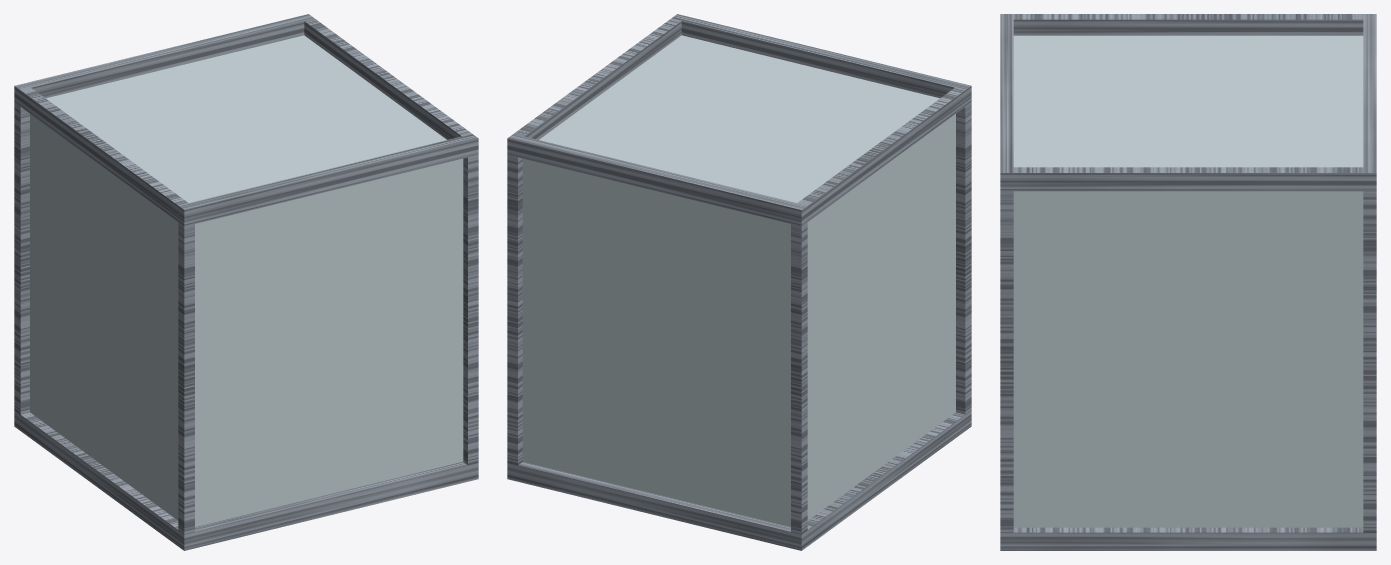
The model's file is vitrine_hood.fbx.
3 renders of one model, left to right at view 1: azimuth 30°, elevation 25°; view 2: azimuth 150°, elevation 25°; view 3: azimuth 270°, elevation 25°, orthographic. The views are drawn at different scales.
Parts seen in each view (by area): view 1: vitrine_hood; view 2: vitrine_hood; view 3: vitrine_hood.
Part boxes in pixels (left/top/right/bottom): vitrine_hood: left=14, top=14, right=478, bottom=550; vitrine_hood: left=507, top=14, right=971, bottom=550; vitrine_hood: left=1000, top=14, right=1376, bottom=550.
Size of the model in its own units: 56 by 62 by 56.
